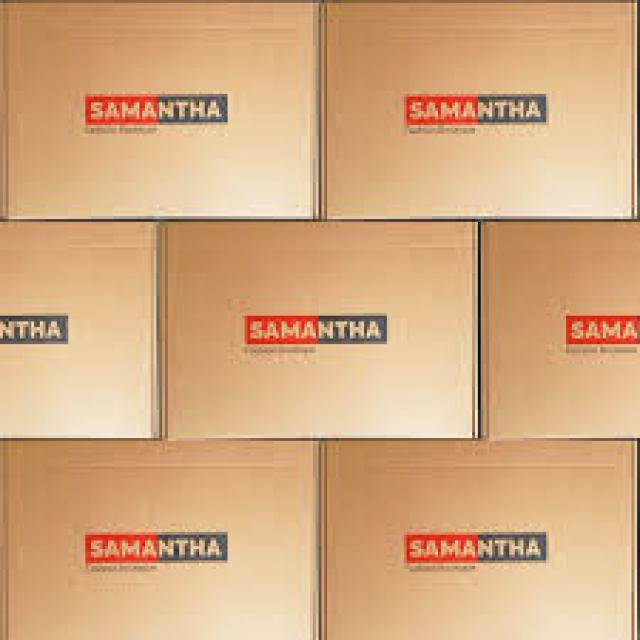cardboard: (154, 219, 475, 435), (319, 0, 637, 216), (0, 0, 315, 213), (0, 435, 321, 637), (319, 435, 637, 637), (475, 216, 637, 438), (0, 216, 156, 438)
